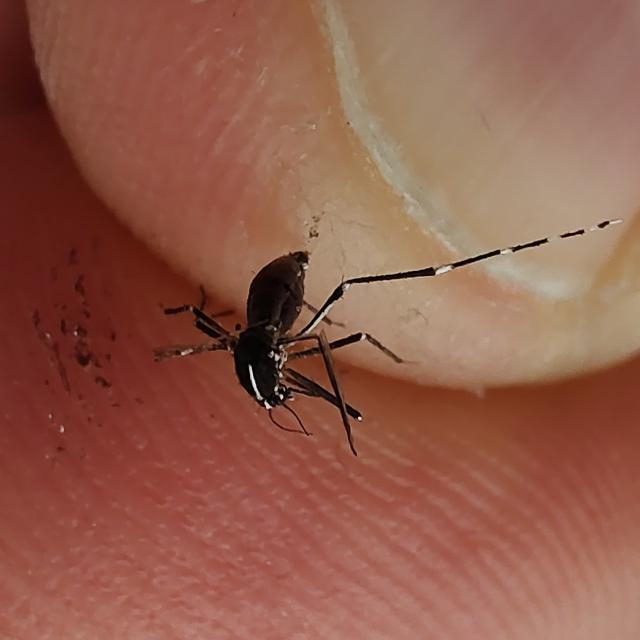albopictus: (152, 159, 610, 453)
